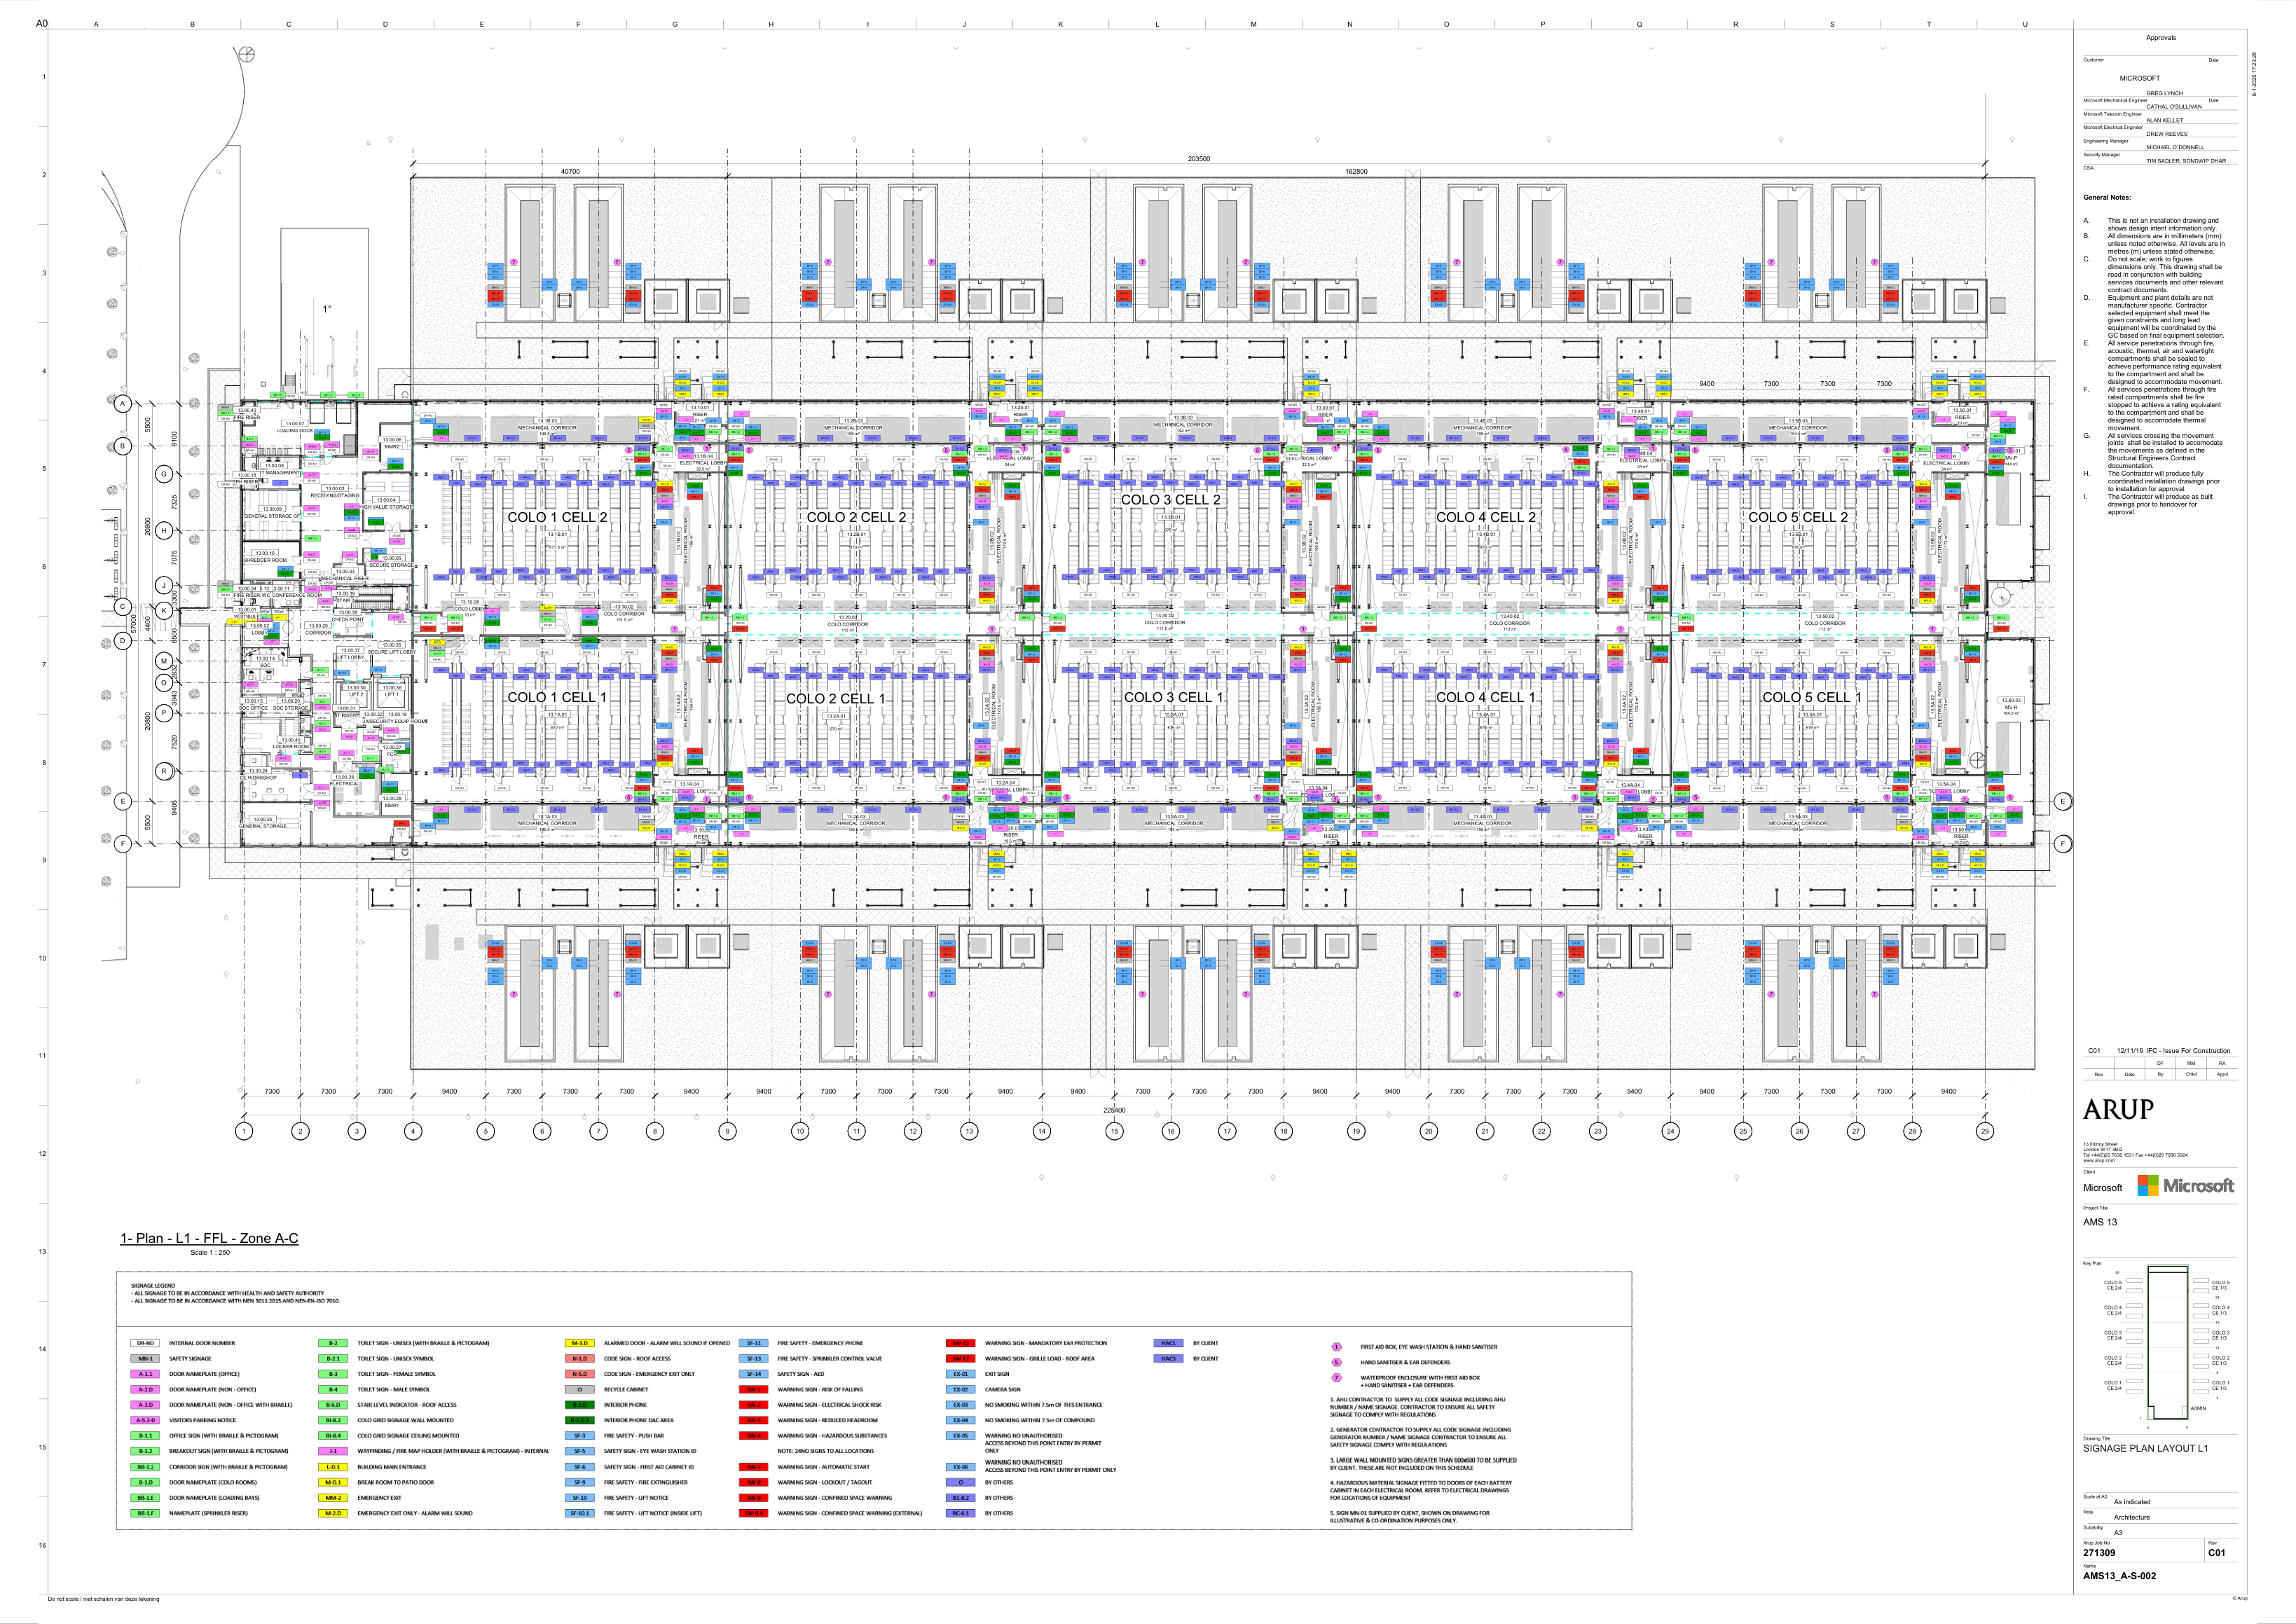Legend: (117, 1271, 1632, 1529)
